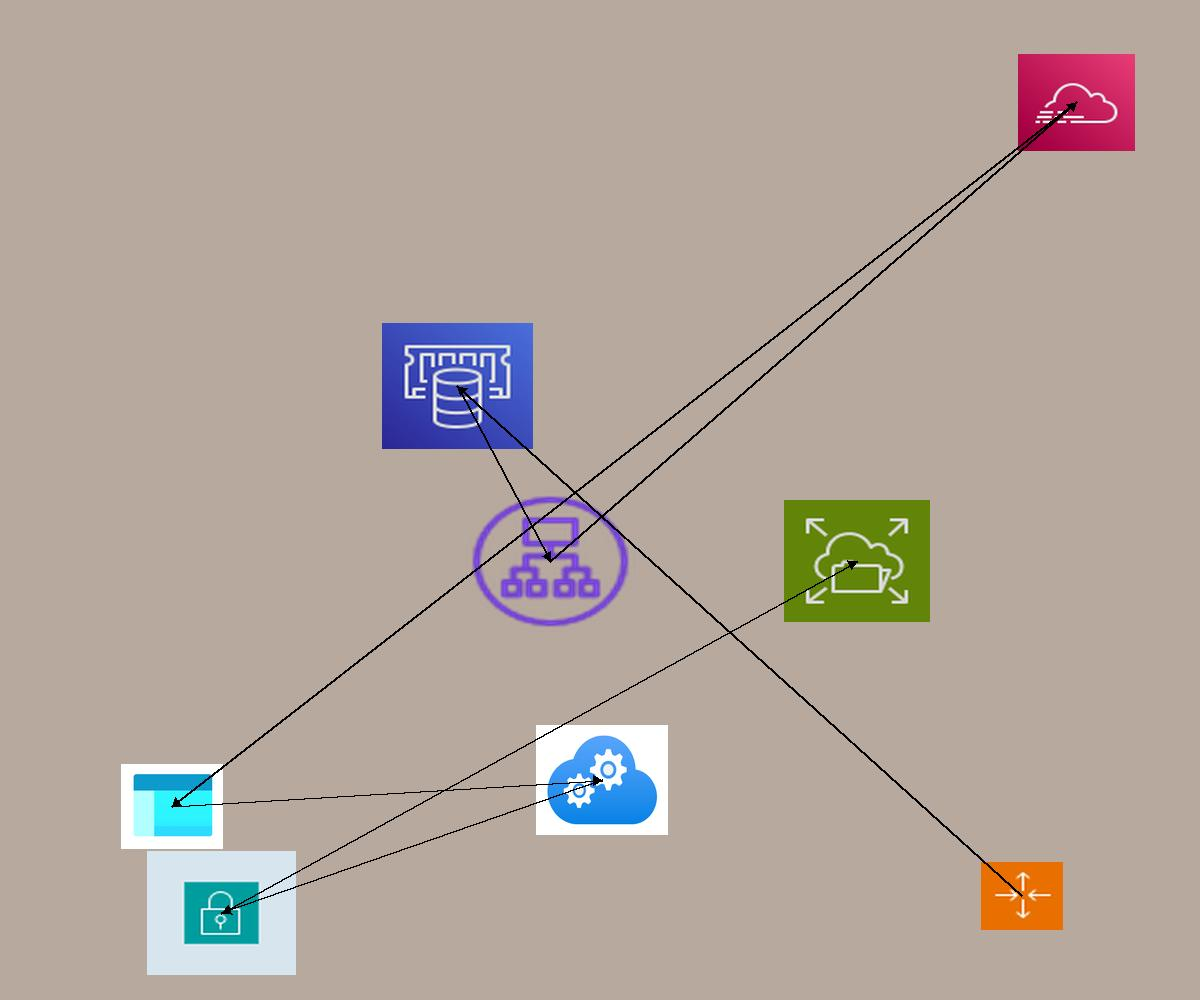AWS-CloudTrail: (1018, 54, 1135, 151)
AWS-EFS: (784, 500, 930, 622)
AWS-ElastiCache: (382, 323, 533, 449)
AWS-Private-subnet: (147, 851, 296, 975)
AWS-Res_Elastic-Load-Balancing_Application-Load-Balancer: (466, 491, 635, 632)
AWS-Scaling-group: (981, 862, 1063, 930)
Azure_cloud_services: (536, 725, 668, 835)
Azure_management-portal: (121, 764, 223, 849)
